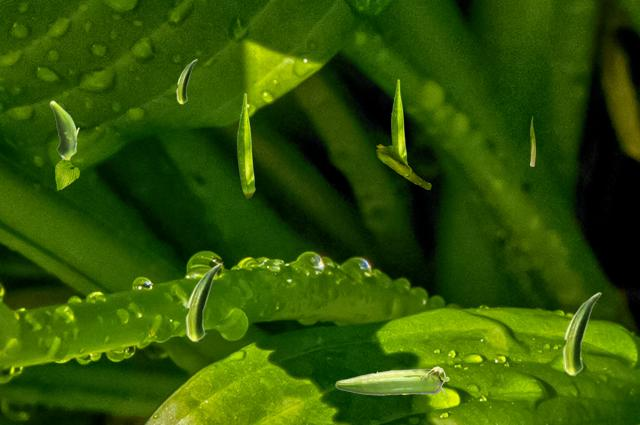okra: (335, 366, 448, 394), (562, 292, 600, 375), (185, 263, 221, 341), (237, 93, 254, 197), (49, 100, 76, 157), (391, 79, 406, 161), (176, 59, 196, 103), (61, 127, 78, 160), (530, 116, 534, 165)
